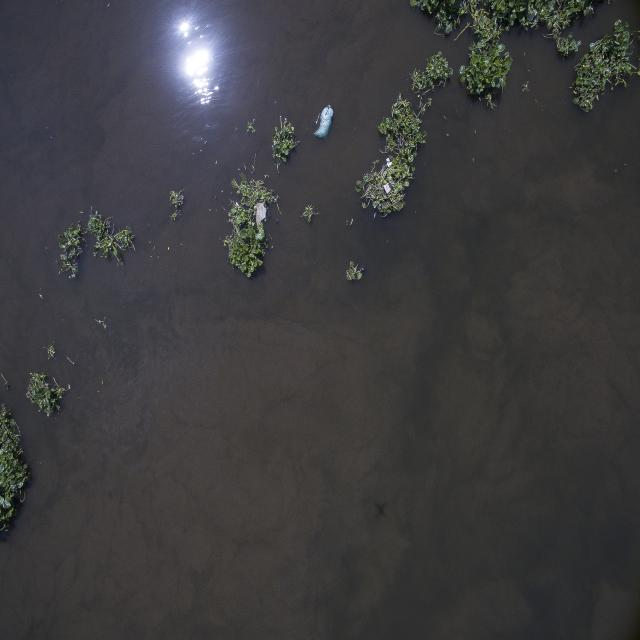plastic: (309, 99, 344, 150), (252, 196, 276, 247), (384, 177, 394, 198)
